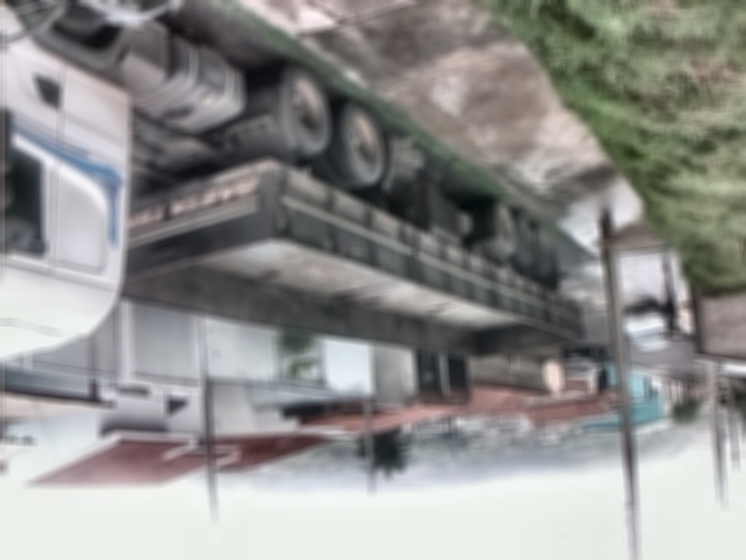person: (659, 263, 678, 328)
